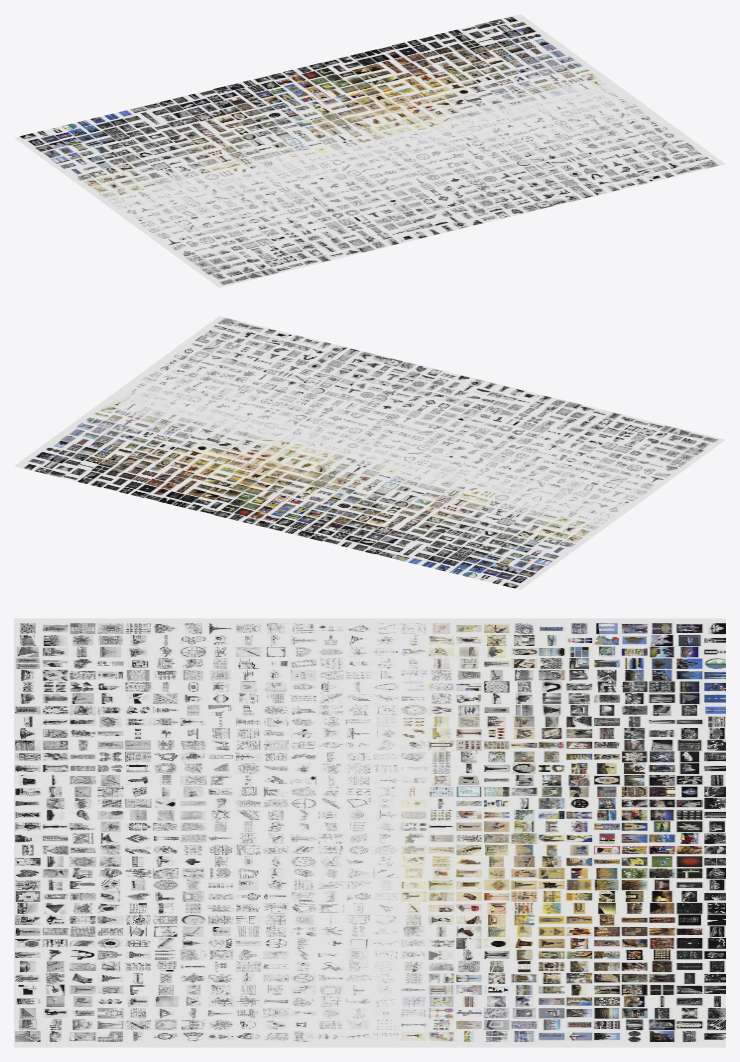
3 renders of one model, top to bottom at view 1: azimuth 30°, elevation 25°; view 2: azimuth 150°, elevation 25°; view 3: azimuth 270°, elevation 25°, orthographic. The views are drawn at different scales.
Parts seen in each view (by area): view 1: 2; view 2: 2; view 3: 2.
Boxes of the visible parts, bbox=[...] form: 2: bbox=[14, 14, 725, 287]; 2: bbox=[14, 316, 725, 589]; 2: bbox=[14, 618, 725, 1047].
Bounding box in the file's own units: 42.32 × 1.38e-08 × 29.68.
Materials: 1 (1 with a texture image).
